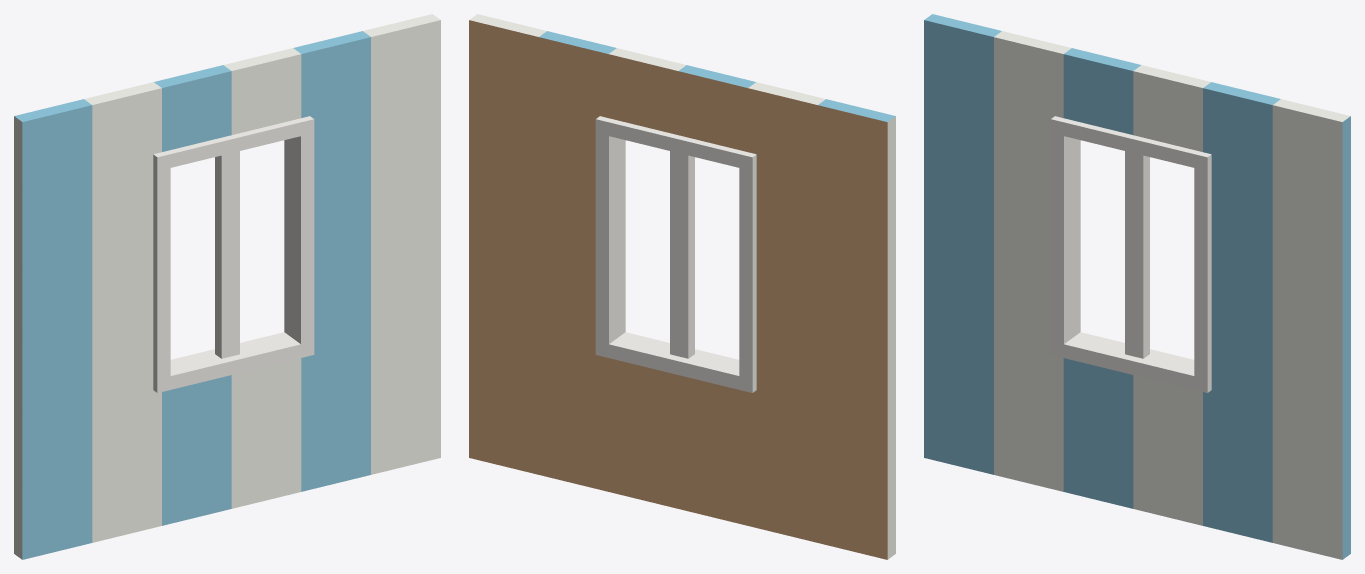
Rendered from WallStripesWindow.fbx.
The picture shows the model from 3 angles, left to right: view 1: azimuth 30°, elevation 25°; view 2: azimuth 150°, elevation 25°; view 3: azimuth 330°, elevation 25°; orthographic projection.
Visible parts, largest first — view 1: wall, Cube; view 2: wall, Cube; view 3: wall, Cube.
Boxes of the visible parts, x1,y1,x2,y2 form: wall: [14, 14, 440, 559]; Cube: [153, 116, 314, 392]; wall: [469, 14, 895, 559]; Cube: [595, 116, 756, 392]; wall: [924, 14, 1350, 559]; Cube: [1050, 116, 1211, 392].
Bounding box in the file's own units: 2900 × 200 × 2900.
2 materials, 2 textured.
